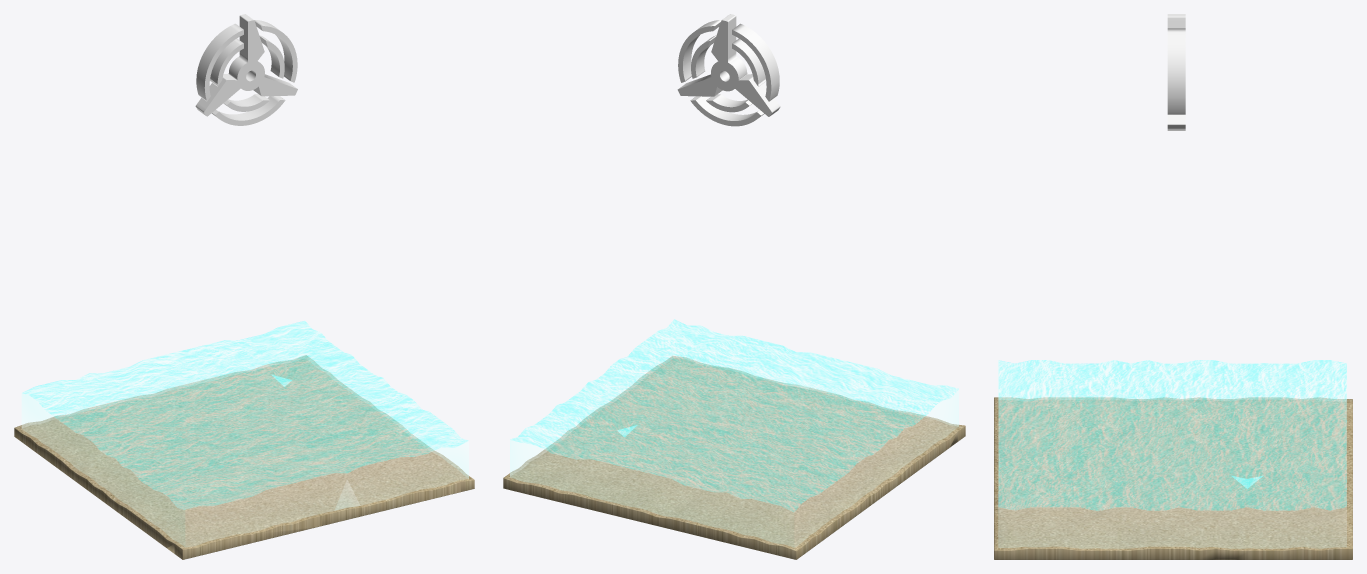
File: water-lower-wind-trans2.glb
3 views of the same model, side by side, from view 1: azimuth 30°, elevation 25°; view 2: azimuth 150°, elevation 25°; view 3: azimuth 270°, elevation 25° (orthographic). The views are drawn at different scales.
Parts seen in each view (by area): view 1: Sand, Plane.002_1, Plane.002_0, Curve.060; view 2: Sand, Plane.002_1, Plane.002_0, Curve.060; view 3: Sand, Plane.002_1, Plane.002_0, Curve.060.
Boxes of the visible parts, x1=… form: Sand: x1=14, y1=355, x2=474, y2=559; Plane.002_1: x1=22, y1=321, x2=468, y2=509; Plane.002_0: x1=21, y1=393, x2=468, y2=546; Curve.060: x1=195, y1=14, x2=297, y2=125; Sand: x1=503, y1=356, x2=965, y2=559; Plane.002_1: x1=510, y1=319, x2=958, y2=511; Plane.002_0: x1=510, y1=352, x2=958, y2=547; Curve.060: x1=677, y1=14, x2=780, y2=126; Sand: x1=994, y1=397, x2=1352, y2=559; Plane.002_1: x1=998, y1=360, x2=1346, y2=510; Plane.002_0: x1=998, y1=360, x2=1346, y2=548; Curve.060: x1=1167, y1=14, x2=1185, y2=130.
Bounding box in the file's own units: 107 × 155 × 107.
4 materials, 2 textured.
